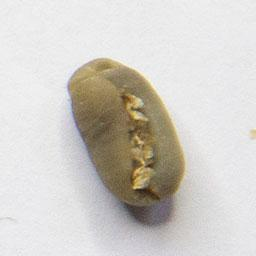peaberry: (63, 53, 189, 210)
